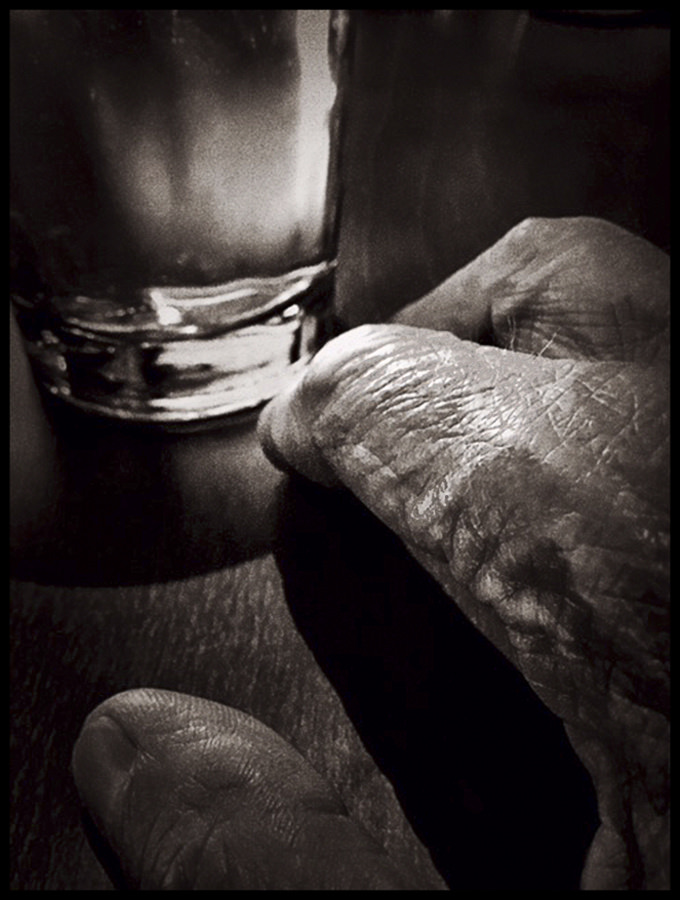glass of water: (26, 9, 329, 420)
